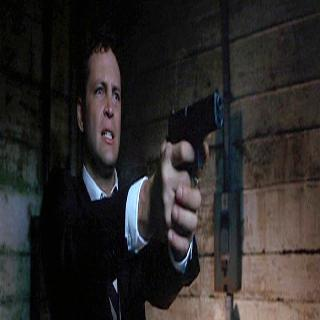gun: (162, 83, 225, 222)
